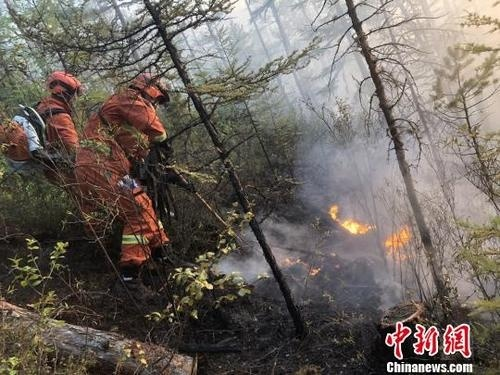fire: (325, 202, 414, 250), (325, 201, 380, 236), (284, 255, 322, 275)
